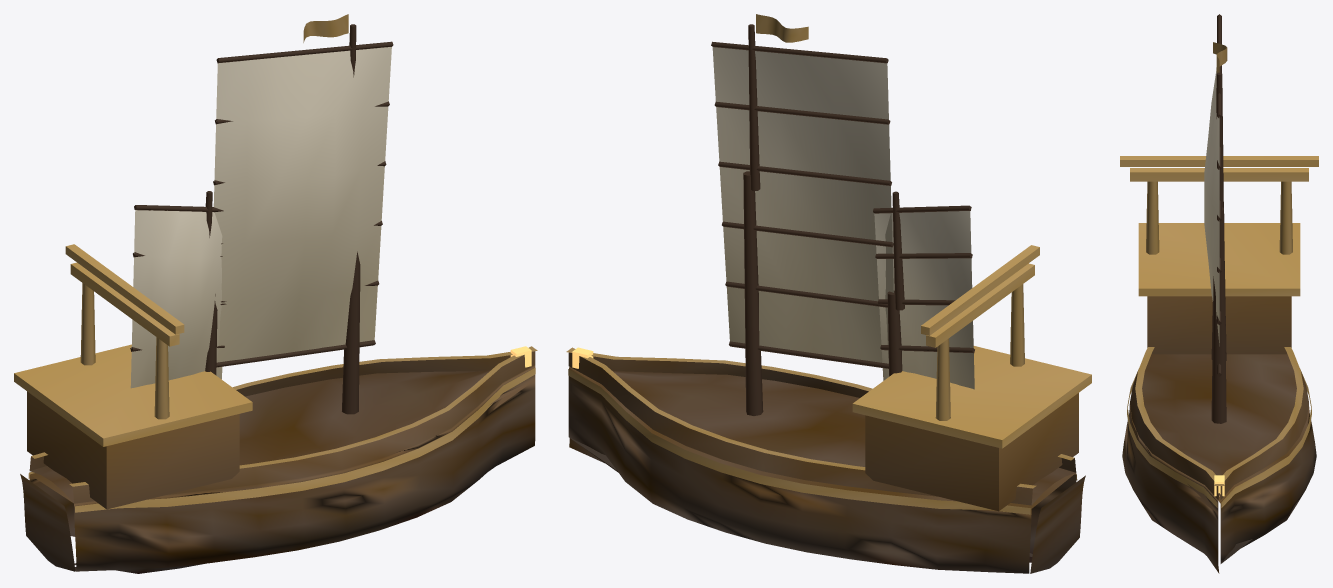
Rendered from garden-hero-ethena.glb.
3 views of the same model, side by side, from view 1: azimuth 30°, elevation 25°; view 2: azimuth 150°, elevation 25°; view 3: azimuth 270°, elevation 25° (orthographic). The views are drawn at different scales.
Parts seen in each view (by area): view 1: wood-hull, sail-hull, trim-hull, spar-hull; view 2: wood-hull, sail-hull, trim-hull, spar-hull; view 3: wood-hull, trim-hull, spar-hull, sail-hull.
Boxes of the visible parts, box(x1,y1,x2,y2) form: wood-hull: box(20, 14, 537, 573); sail-hull: box(130, 47, 391, 388); trim-hull: box(14, 244, 535, 512); spar-hull: box(130, 24, 393, 414); wood-hull: box(566, 14, 1085, 573); sail-hull: box(712, 47, 974, 389); trim-hull: box(568, 245, 1091, 514); spar-hull: box(711, 24, 974, 415); wood-hull: box(1122, 42, 1316, 573); trim-hull: box(1120, 156, 1318, 507); spar-hull: box(1211, 14, 1226, 423); sail-hull: box(1204, 67, 1219, 346).
Bounding box in the file's own units: 9.08 × 8.97 × 3.51.
